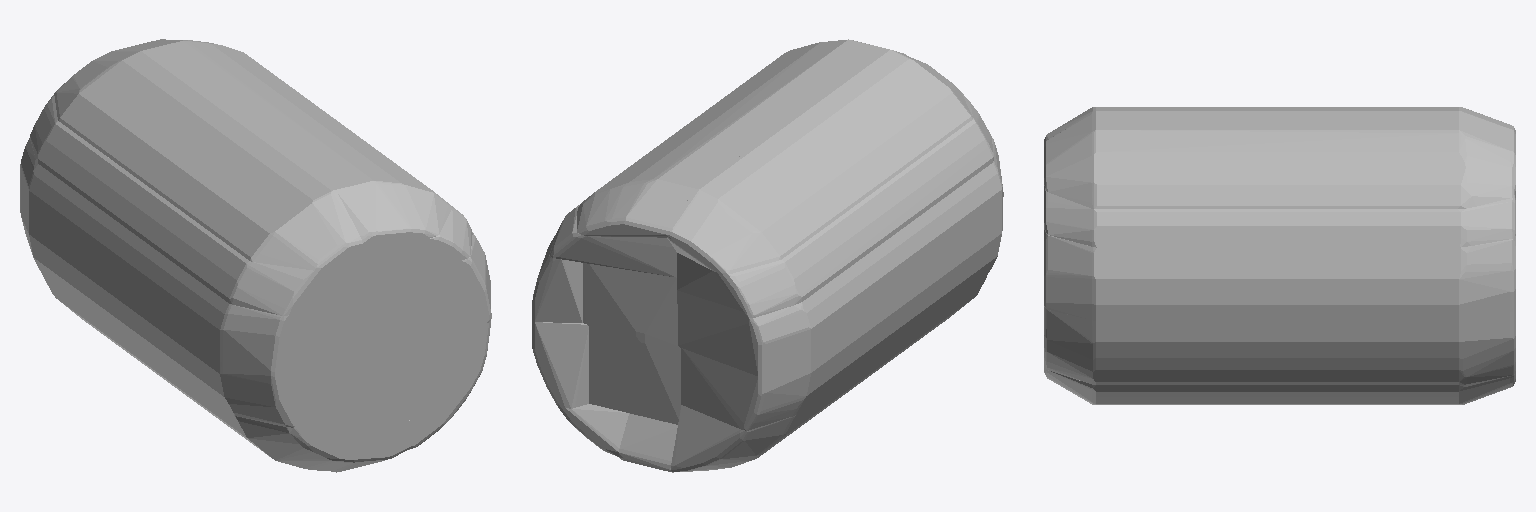
The robot description file, URDF, robot "root":
<robot name="root">
  <link name="link_coacd_convex_piece_0">
    <inertial>
      <origin xyz="0 0 0" rpy="0 0 0"/>
      <inertia ixx="3.57E-02" ixy="-2.75E-04" ixz="4.31E-03" iyy="1.81E-02" iyz="1.69E-04" izz="4.99E-02"/>
    </inertial>
    <visual>
      <origin xyz="0 0 0" rpy="0 0 0"/>
      <geometry>
        <mesh filename="coacd_convex_piece_0.obj" scale="1.0000E+00 1.0000E+00 1.0000E+00"/>
      </geometry>
      <material name="">
        <color rgba="7.50E-01 7.50E-01 7.50E-01 1"/>
      </material>
    </visual>
    <collision>
      <origin xyz="0 0 0" rpy="0 0 0"/>
      <geometry>
        <mesh filename="coacd_convex_piece_0.obj" scale="1.0000E+00 1.0000E+00 1.0000E+00"/>
      </geometry>
    </collision>
  </link>
  <link name="link_coacd_convex_piece_1">
    <inertial>
      <origin xyz="0 0 0" rpy="0 0 0"/>
      <inertia ixx="3.48E-02" ixy="-2.43E-04" ixz="-5.00E-03" iyy="1.80E-02" iyz="-1.81E-04" izz="4.78E-02"/>
    </inertial>
    <visual>
      <origin xyz="0 0 0" rpy="0 0 0"/>
      <geometry>
        <mesh filename="coacd_convex_piece_1.obj" scale="1.0000E+00 1.0000E+00 1.0000E+00"/>
      </geometry>
      <material name="">
        <color rgba="7.50E-01 7.50E-01 7.50E-01 1"/>
      </material>
    </visual>
    <collision>
      <origin xyz="0 0 0" rpy="0 0 0"/>
      <geometry>
        <mesh filename="coacd_convex_piece_1.obj" scale="1.0000E+00 1.0000E+00 1.0000E+00"/>
      </geometry>
    </collision>
  </link>
  <joint name="link_coacd_convex_piece_1_joint" type="fixed">
    <origin xyz="0 0 0" rpy="0 0 0"/>
    <parent link="link_coacd_convex_piece_0"/>
    <child link="link_coacd_convex_piece_1"/>
  </joint>
  <link name="link_coacd_convex_piece_2">
    <inertial>
      <origin xyz="0 0 0" rpy="0 0 0"/>
      <inertia ixx="3.96E-02" ixy="7.81E-05" ixz="-9.38E-03" iyy="2.22E-02" iyz="8.98E-05" izz="3.32E-02"/>
    </inertial>
    <visual>
      <origin xyz="0 0 0" rpy="0 0 0"/>
      <geometry>
        <mesh filename="coacd_convex_piece_2.obj" scale="1.0000E+00 1.0000E+00 1.0000E+00"/>
      </geometry>
      <material name="">
        <color rgba="7.50E-01 7.50E-01 7.50E-01 1"/>
      </material>
    </visual>
    <collision>
      <origin xyz="0 0 0" rpy="0 0 0"/>
      <geometry>
        <mesh filename="coacd_convex_piece_2.obj" scale="1.0000E+00 1.0000E+00 1.0000E+00"/>
      </geometry>
    </collision>
  </link>
  <joint name="link_coacd_convex_piece_2_joint" type="fixed">
    <origin xyz="0 0 0" rpy="0 0 0"/>
    <parent link="link_coacd_convex_piece_1"/>
    <child link="link_coacd_convex_piece_2"/>
  </joint>
  <link name="link_coacd_convex_piece_3">
    <inertial>
      <origin xyz="0 0 0" rpy="0 0 0"/>
      <inertia ixx="3.56E-02" ixy="-9.53E-05" ixz="-3.86E-03" iyy="1.92E-02" iyz="-2.00E-04" izz="2.07E-02"/>
    </inertial>
    <visual>
      <origin xyz="0 0 0" rpy="0 0 0"/>
      <geometry>
        <mesh filename="coacd_convex_piece_3.obj" scale="1.0000E+00 1.0000E+00 1.0000E+00"/>
      </geometry>
      <material name="">
        <color rgba="7.50E-01 7.50E-01 7.50E-01 1"/>
      </material>
    </visual>
    <collision>
      <origin xyz="0 0 0" rpy="0 0 0"/>
      <geometry>
        <mesh filename="coacd_convex_piece_3.obj" scale="1.0000E+00 1.0000E+00 1.0000E+00"/>
      </geometry>
    </collision>
  </link>
  <joint name="link_coacd_convex_piece_3_joint" type="fixed">
    <origin xyz="0 0 0" rpy="0 0 0"/>
    <parent link="link_coacd_convex_piece_2"/>
    <child link="link_coacd_convex_piece_3"/>
  </joint>
  <link name="link_coacd_convex_piece_4">
    <inertial>
      <origin xyz="0 0 0" rpy="0 0 0"/>
      <inertia ixx="2.89E-02" ixy="-5.35E-05" ixz="-4.83E-03" iyy="1.33E-02" iyz="2.66E-04" izz="2.50E-02"/>
    </inertial>
    <visual>
      <origin xyz="0 0 0" rpy="0 0 0"/>
      <geometry>
        <mesh filename="coacd_convex_piece_4.obj" scale="1.0000E+00 1.0000E+00 1.0000E+00"/>
      </geometry>
      <material name="">
        <color rgba="7.50E-01 7.50E-01 7.50E-01 1"/>
      </material>
    </visual>
    <collision>
      <origin xyz="0 0 0" rpy="0 0 0"/>
      <geometry>
        <mesh filename="coacd_convex_piece_4.obj" scale="1.0000E+00 1.0000E+00 1.0000E+00"/>
      </geometry>
    </collision>
  </link>
  <joint name="link_coacd_convex_piece_4_joint" type="fixed">
    <origin xyz="0 0 0" rpy="0 0 0"/>
    <parent link="link_coacd_convex_piece_3"/>
    <child link="link_coacd_convex_piece_4"/>
  </joint>
  <link name="link_coacd_convex_piece_5">
    <inertial>
      <origin xyz="0 0 0" rpy="0 0 0"/>
      <inertia ixx="2.07E-02" ixy="2.88E-05" ixz="-3.98E-03" iyy="1.63E-02" iyz="1.32E-06" izz="3.38E-02"/>
    </inertial>
    <visual>
      <origin xyz="0 0 0" rpy="0 0 0"/>
      <geometry>
        <mesh filename="coacd_convex_piece_5.obj" scale="1.0000E+00 1.0000E+00 1.0000E+00"/>
      </geometry>
      <material name="">
        <color rgba="7.50E-01 7.50E-01 7.50E-01 1"/>
      </material>
    </visual>
    <collision>
      <origin xyz="0 0 0" rpy="0 0 0"/>
      <geometry>
        <mesh filename="coacd_convex_piece_5.obj" scale="1.0000E+00 1.0000E+00 1.0000E+00"/>
      </geometry>
    </collision>
  </link>
  <joint name="link_coacd_convex_piece_5_joint" type="fixed">
    <origin xyz="0 0 0" rpy="0 0 0"/>
    <parent link="link_coacd_convex_piece_4"/>
    <child link="link_coacd_convex_piece_5"/>
  </joint>
  <link name="link_coacd_convex_piece_6">
    <inertial>
      <origin xyz="0 0 0" rpy="0 0 0"/>
      <inertia ixx="8.30E-02" ixy="1.10E-03" ixz="5.24E-04" iyy="1.60E-02" iyz="-2.93E-04" izz="8.16E-02"/>
    </inertial>
    <visual>
      <origin xyz="0 0 0" rpy="0 0 0"/>
      <geometry>
        <mesh filename="coacd_convex_piece_6.obj" scale="1.0000E+00 1.0000E+00 1.0000E+00"/>
      </geometry>
      <material name="">
        <color rgba="7.50E-01 7.50E-01 7.50E-01 1"/>
      </material>
    </visual>
    <collision>
      <origin xyz="0 0 0" rpy="0 0 0"/>
      <geometry>
        <mesh filename="coacd_convex_piece_6.obj" scale="1.0000E+00 1.0000E+00 1.0000E+00"/>
      </geometry>
    </collision>
  </link>
  <joint name="link_coacd_convex_piece_6_joint" type="fixed">
    <origin xyz="0 0 0" rpy="0 0 0"/>
    <parent link="link_coacd_convex_piece_5"/>
    <child link="link_coacd_convex_piece_6"/>
  </joint>
  <link name="link_coacd_convex_piece_7">
    <inertial>
      <origin xyz="0 0 0" rpy="0 0 0"/>
      <inertia ixx="2.38E-02" ixy="8.14E-05" ixz="5.22E-03" iyy="1.41E-02" iyz="-1.34E-04" izz="1.58E-02"/>
    </inertial>
    <visual>
      <origin xyz="0 0 0" rpy="0 0 0"/>
      <geometry>
        <mesh filename="coacd_convex_piece_7.obj" scale="1.0000E+00 1.0000E+00 1.0000E+00"/>
      </geometry>
      <material name="">
        <color rgba="7.50E-01 7.50E-01 7.50E-01 1"/>
      </material>
    </visual>
    <collision>
      <origin xyz="0 0 0" rpy="0 0 0"/>
      <geometry>
        <mesh filename="coacd_convex_piece_7.obj" scale="1.0000E+00 1.0000E+00 1.0000E+00"/>
      </geometry>
    </collision>
  </link>
  <joint name="link_coacd_convex_piece_7_joint" type="fixed">
    <origin xyz="0 0 0" rpy="0 0 0"/>
    <parent link="link_coacd_convex_piece_6"/>
    <child link="link_coacd_convex_piece_7"/>
  </joint>
  <link name="link_coacd_convex_piece_8">
    <inertial>
      <origin xyz="0 0 0" rpy="0 0 0"/>
      <inertia ixx="2.61E-02" ixy="-4.36E-05" ixz="6.42E-03" iyy="1.42E-02" iyz="1.80E-04" izz="2.70E-02"/>
    </inertial>
    <visual>
      <origin xyz="0 0 0" rpy="0 0 0"/>
      <geometry>
        <mesh filename="coacd_convex_piece_8.obj" scale="1.0000E+00 1.0000E+00 1.0000E+00"/>
      </geometry>
      <material name="">
        <color rgba="7.50E-01 7.50E-01 7.50E-01 1"/>
      </material>
    </visual>
    <collision>
      <origin xyz="0 0 0" rpy="0 0 0"/>
      <geometry>
        <mesh filename="coacd_convex_piece_8.obj" scale="1.0000E+00 1.0000E+00 1.0000E+00"/>
      </geometry>
    </collision>
  </link>
  <joint name="link_coacd_convex_piece_8_joint" type="fixed">
    <origin xyz="0 0 0" rpy="0 0 0"/>
    <parent link="link_coacd_convex_piece_7"/>
    <child link="link_coacd_convex_piece_8"/>
  </joint>
  <link name="link_coacd_convex_piece_9">
    <inertial>
      <origin xyz="0 0 0" rpy="0 0 0"/>
      <inertia ixx="2.79E-02" ixy="2.98E-05" ixz="6.38E-03" iyy="2.08E-02" iyz="-2.97E-06" izz="4.20E-02"/>
    </inertial>
    <visual>
      <origin xyz="0 0 0" rpy="0 0 0"/>
      <geometry>
        <mesh filename="coacd_convex_piece_9.obj" scale="1.0000E+00 1.0000E+00 1.0000E+00"/>
      </geometry>
      <material name="">
        <color rgba="7.50E-01 7.50E-01 7.50E-01 1"/>
      </material>
    </visual>
    <collision>
      <origin xyz="0 0 0" rpy="0 0 0"/>
      <geometry>
        <mesh filename="coacd_convex_piece_9.obj" scale="1.0000E+00 1.0000E+00 1.0000E+00"/>
      </geometry>
    </collision>
  </link>
  <joint name="link_coacd_convex_piece_9_joint" type="fixed">
    <origin xyz="0 0 0" rpy="0 0 0"/>
    <parent link="link_coacd_convex_piece_8"/>
    <child link="link_coacd_convex_piece_9"/>
  </joint>
  <link name="link_coacd_convex_piece_10">
    <inertial>
      <origin xyz="0 0 0" rpy="0 0 0"/>
      <inertia ixx="2.86E-02" ixy="3.50E-06" ixz="2.14E-04" iyy="1.32E-02" iyz="-1.22E-04" izz="1.60E-02"/>
    </inertial>
    <visual>
      <origin xyz="0 0 0" rpy="0 0 0"/>
      <geometry>
        <mesh filename="coacd_convex_piece_10.obj" scale="1.0000E+00 1.0000E+00 1.0000E+00"/>
      </geometry>
      <material name="">
        <color rgba="7.50E-01 7.50E-01 7.50E-01 1"/>
      </material>
    </visual>
    <collision>
      <origin xyz="0 0 0" rpy="0 0 0"/>
      <geometry>
        <mesh filename="coacd_convex_piece_10.obj" scale="1.0000E+00 1.0000E+00 1.0000E+00"/>
      </geometry>
    </collision>
  </link>
  <joint name="link_coacd_convex_piece_10_joint" type="fixed">
    <origin xyz="0 0 0" rpy="0 0 0"/>
    <parent link="link_coacd_convex_piece_9"/>
    <child link="link_coacd_convex_piece_10"/>
  </joint>
  <link name="link_coacd_convex_piece_11">
    <inertial>
      <origin xyz="0 0 0" rpy="0 0 0"/>
      <inertia ixx="2.64E-02" ixy="-1.06E-04" ixz="6.59E-03" iyy="1.58E-02" iyz="1.46E-04" izz="1.98E-02"/>
    </inertial>
    <visual>
      <origin xyz="0 0 0" rpy="0 0 0"/>
      <geometry>
        <mesh filename="coacd_convex_piece_11.obj" scale="1.0000E+00 1.0000E+00 1.0000E+00"/>
      </geometry>
      <material name="">
        <color rgba="7.50E-01 7.50E-01 7.50E-01 1"/>
      </material>
    </visual>
    <collision>
      <origin xyz="0 0 0" rpy="0 0 0"/>
      <geometry>
        <mesh filename="coacd_convex_piece_11.obj" scale="1.0000E+00 1.0000E+00 1.0000E+00"/>
      </geometry>
    </collision>
  </link>
  <joint name="link_coacd_convex_piece_11_joint" type="fixed">
    <origin xyz="0 0 0" rpy="0 0 0"/>
    <parent link="link_coacd_convex_piece_10"/>
    <child link="link_coacd_convex_piece_11"/>
  </joint>
</robot>

--- Facts derived from the render (not from the file) ---
The picture shows the robot from 3 angles, left to right: view 1: azimuth 30°, elevation 25°; view 2: azimuth 150°, elevation 25°; view 3: azimuth 270°, elevation 25°; orthographic projection.
Robot: root — 12 links, 11 joints (11 fixed); root link link_coacd_convex_piece_0; default pose: every joint at zero.
Links seen in each view (by area): view 1: link_coacd_convex_piece_7, link_coacd_convex_piece_0, link_coacd_convex_piece_3, link_coacd_convex_piece_8, link_coacd_convex_piece_1, link_coacd_convex_piece_6, link_coacd_convex_piece_2, link_coacd_convex_piece_4, link_coacd_convex_piece_5, link_coacd_convex_piece_9, link_coacd_convex_piece_10, link_coacd_convex_piece_11; view 2: link_coacd_convex_piece_7, link_coacd_convex_piece_0, link_coacd_convex_piece_3, link_coacd_convex_piece_8, link_coacd_convex_piece_1, link_coacd_convex_piece_6, link_coacd_convex_piece_2, link_coacd_convex_piece_9, link_coacd_convex_piece_4, link_coacd_convex_piece_5, link_coacd_convex_piece_10, link_coacd_convex_piece_11; view 3: link_coacd_convex_piece_3, link_coacd_convex_piece_5, link_coacd_convex_piece_9, link_coacd_convex_piece_4, link_coacd_convex_piece_11, link_coacd_convex_piece_7.
Boxes of the visible links, box(x1,y1,x2,y2) form: link_coacd_convex_piece_7: box(54, 50, 362, 270); link_coacd_convex_piece_0: box(20, 138, 362, 374); link_coacd_convex_piece_3: box(119, 39, 451, 254); link_coacd_convex_piece_8: box(30, 95, 362, 315); link_coacd_convex_piece_1: box(20, 196, 357, 427); link_coacd_convex_piece_6: box(358, 262, 456, 432); link_coacd_convex_piece_2: box(43, 276, 357, 471); link_coacd_convex_piece_4: box(363, 206, 472, 284); link_coacd_convex_piece_5: box(457, 232, 491, 329); link_coacd_convex_piece_9: box(450, 321, 490, 409); link_coacd_convex_piece_10: box(332, 420, 409, 472); link_coacd_convex_piece_11: box(409, 407, 459, 449); link_coacd_convex_piece_7: box(666, 49, 972, 274); link_coacd_convex_piece_0: box(677, 138, 1003, 376); link_coacd_convex_piece_3: box(577, 39, 906, 246); link_coacd_convex_piece_8: box(677, 92, 993, 317); link_coacd_convex_piece_1: box(681, 196, 1003, 430); link_coacd_convex_piece_6: box(583, 263, 680, 424); link_coacd_convex_piece_2: box(671, 276, 986, 472); link_coacd_convex_piece_9: box(532, 321, 588, 408); link_coacd_convex_piece_4: box(550, 205, 676, 277); link_coacd_convex_piece_5: box(532, 235, 582, 322); link_coacd_convex_piece_10: box(619, 413, 677, 472); link_coacd_convex_piece_11: box(558, 404, 628, 456); link_coacd_convex_piece_3: box(1044, 112, 1515, 208); link_coacd_convex_piece_5: box(1044, 230, 1515, 320); link_coacd_convex_piece_9: box(1044, 307, 1515, 384); link_coacd_convex_piece_4: box(1044, 186, 1515, 247); link_coacd_convex_piece_11: box(1044, 366, 1515, 404); link_coacd_convex_piece_7: box(1044, 107, 1515, 144).
Size in the robot's own frame: 1.08 by 1.72 by 1.08 metres.
12 mesh visuals loaded from 12 distinct referenced files (12 OBJ).
